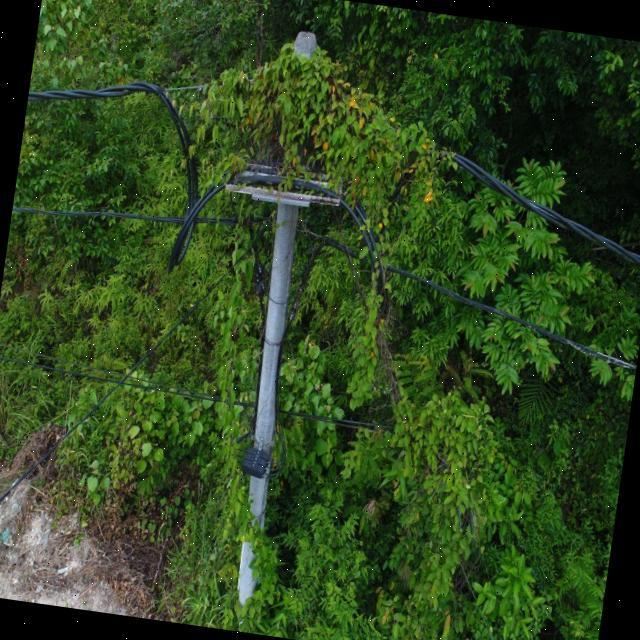critical vegetation: (119, 14, 478, 604)
